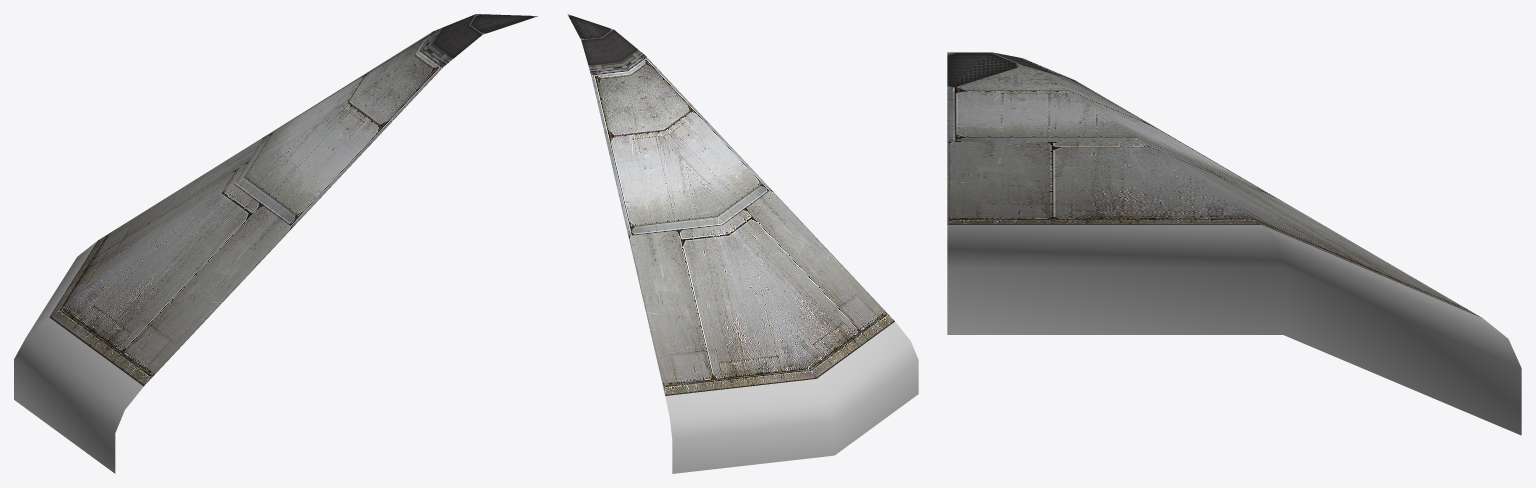
The model's file is Roof_A_Big4mts03.fbx.
3 renders of one model, left to right at view 1: azimuth 30°, elevation 25°; view 2: azimuth 150°, elevation 25°; view 3: azimuth 270°, elevation 25°, orthographic. The views are drawn at different scales.
Parts seen in each view (by area): view 1: Roof_A_Big4mts03; view 2: Roof_A_Big4mts03; view 3: Roof_A_Big4mts03.
Part boxes in pixels (x1,y1,x2,y2): Roof_A_Big4mts03: (14,14,538,473); Roof_A_Big4mts03: (567,14,918,473); Roof_A_Big4mts03: (947,52,1521,435).
Bounding box in the file's own units: 500 × 400 × 354.
